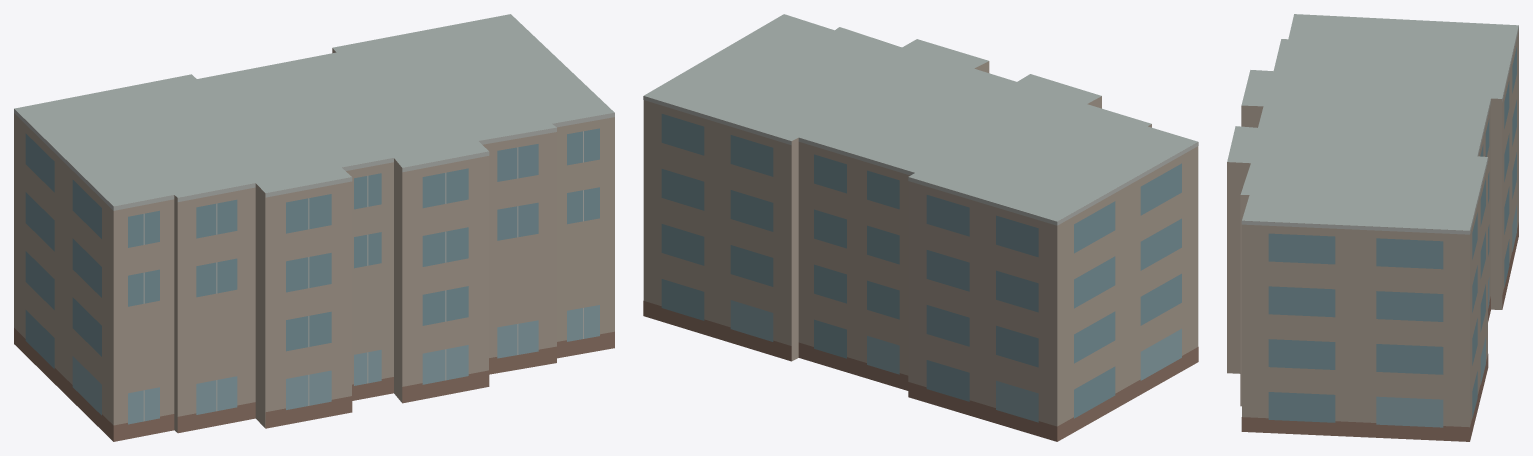
Rendered from survey-upis-32957365.glb.
3 renders of one model, left to right at view 1: azimuth 30°, elevation 25°; view 2: azimuth 150°, elevation 25°; view 3: azimuth 270°, elevation 25°, orthographic. The views are drawn at different scales.
Parts seen in each view (by area): view 1: survey-upis-32957365.tmp; view 2: survey-upis-32957365.tmp; view 3: survey-upis-32957365.tmp.
Boxes of the visible parts, bbox=[...] form: survey-upis-32957365.tmp: bbox=[14, 14, 614, 441]; survey-upis-32957365.tmp: bbox=[643, 14, 1198, 441]; survey-upis-32957365.tmp: bbox=[1227, 14, 1518, 441].
Size of the model in its own units: 28.78 by 13.07 by 16.38.
